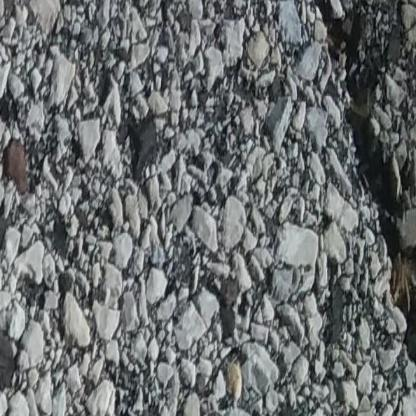Cracks: (317, 0, 416, 377)
